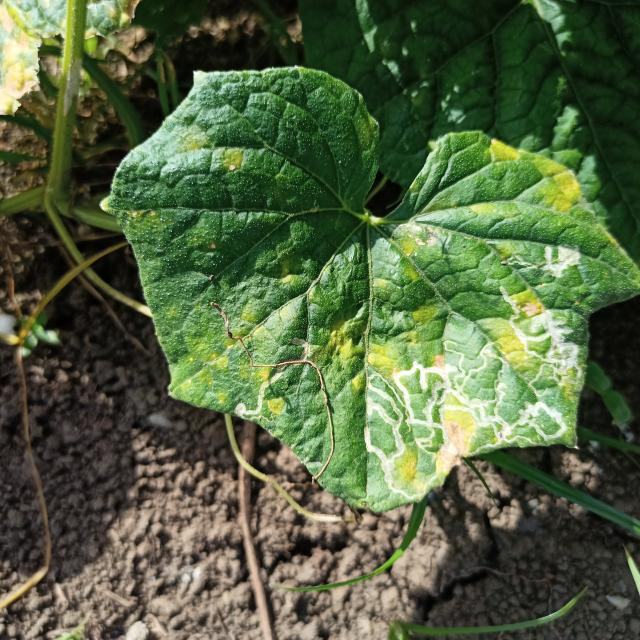disease_cucumber: (360, 228, 583, 487), (206, 258, 360, 422), (466, 136, 587, 228), (175, 121, 247, 176)
